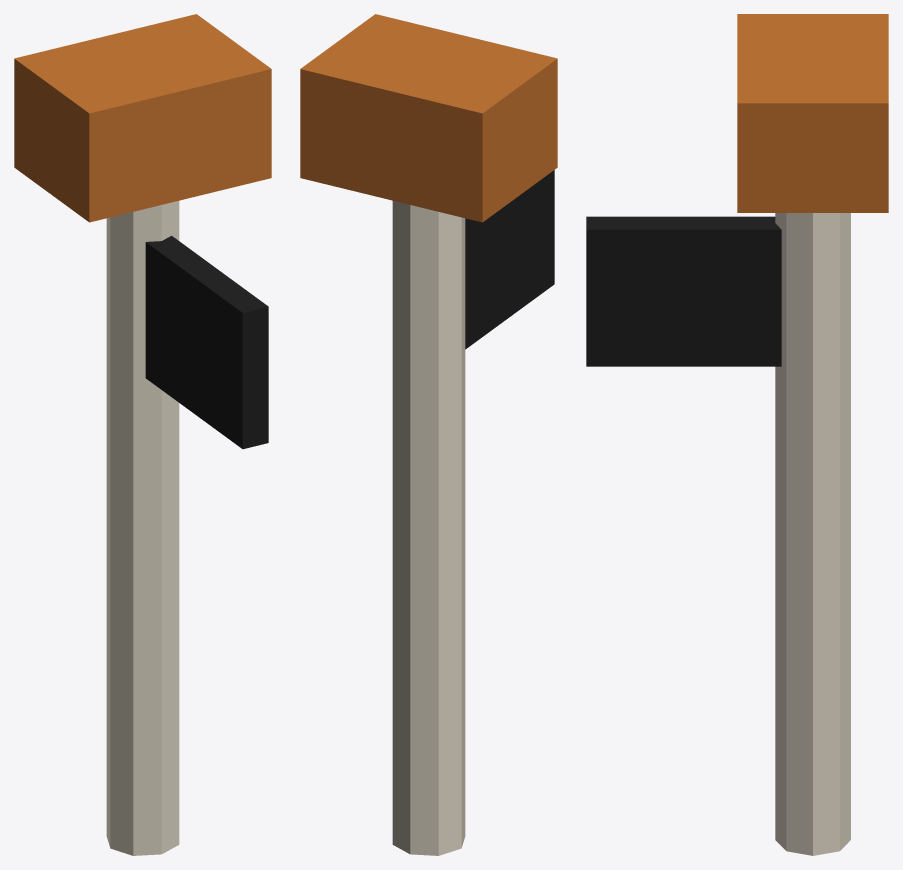
The model's file is deep_deposit_marker.glb.
3 renders of one model, left to right at view 1: azimuth 30°, elevation 25°; view 2: azimuth 150°, elevation 25°; view 3: azimuth 270°, elevation 25°, orthographic.
Visible parts, largest first — view 1: deep_deposit_marker__M_CreamPlastic, deep_deposit_marker__M_OreTint, deep_deposit_marker__M_Licorice; view 2: deep_deposit_marker__M_CreamPlastic, deep_deposit_marker__M_OreTint, deep_deposit_marker__M_Licorice; view 3: deep_deposit_marker__M_CreamPlastic, deep_deposit_marker__M_OreTint, deep_deposit_marker__M_Licorice.
Boxes of the visible parts, x1,y1,x2,y2 form: deep_deposit_marker__M_CreamPlastic: (106, 201, 179, 855); deep_deposit_marker__M_OreTint: (14, 14, 271, 222); deep_deposit_marker__M_Licorice: (145, 235, 268, 449); deep_deposit_marker__M_CreamPlastic: (392, 201, 465, 855); deep_deposit_marker__M_OreTint: (300, 14, 557, 222); deep_deposit_marker__M_Licorice: (465, 170, 554, 349); deep_deposit_marker__M_CreamPlastic: (775, 213, 850, 855); deep_deposit_marker__M_OreTint: (737, 14, 888, 212); deep_deposit_marker__M_Licorice: (586, 216, 781, 366).
Bounding box in the file's own units: 0.14 × 0.57 × 0.2.
